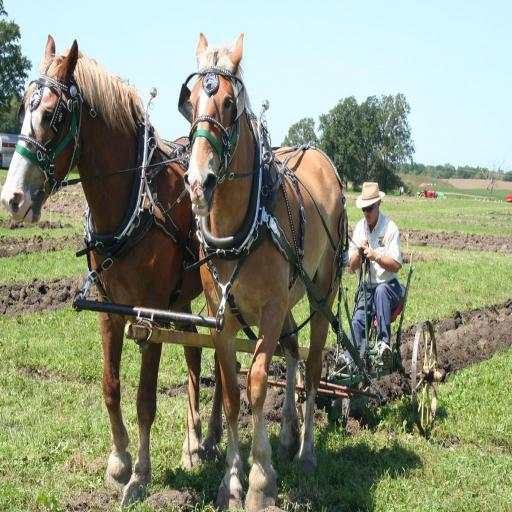horse: (0, 31, 223, 510), (182, 30, 348, 512)
